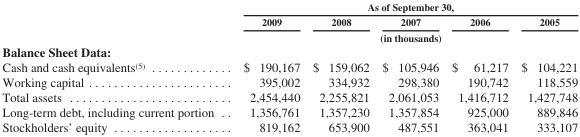table: (1, 0, 577, 134)
table column: (1, 0, 227, 134), (227, 0, 305, 134), (305, 0, 375, 134), (444, 0, 514, 134), (375, 0, 444, 134), (514, 0, 577, 134)
table column header: (1, 0, 577, 43)
table projected row header: (1, 43, 577, 58)
table row: (1, 58, 577, 74), (1, 14, 577, 29), (1, 43, 577, 58), (1, 74, 577, 89), (1, 89, 577, 104), (1, 104, 577, 119), (1, 119, 577, 134), (1, 0, 577, 14), (1, 29, 577, 43)
table spanning cell: (227, 0, 577, 14), (227, 29, 577, 43)
